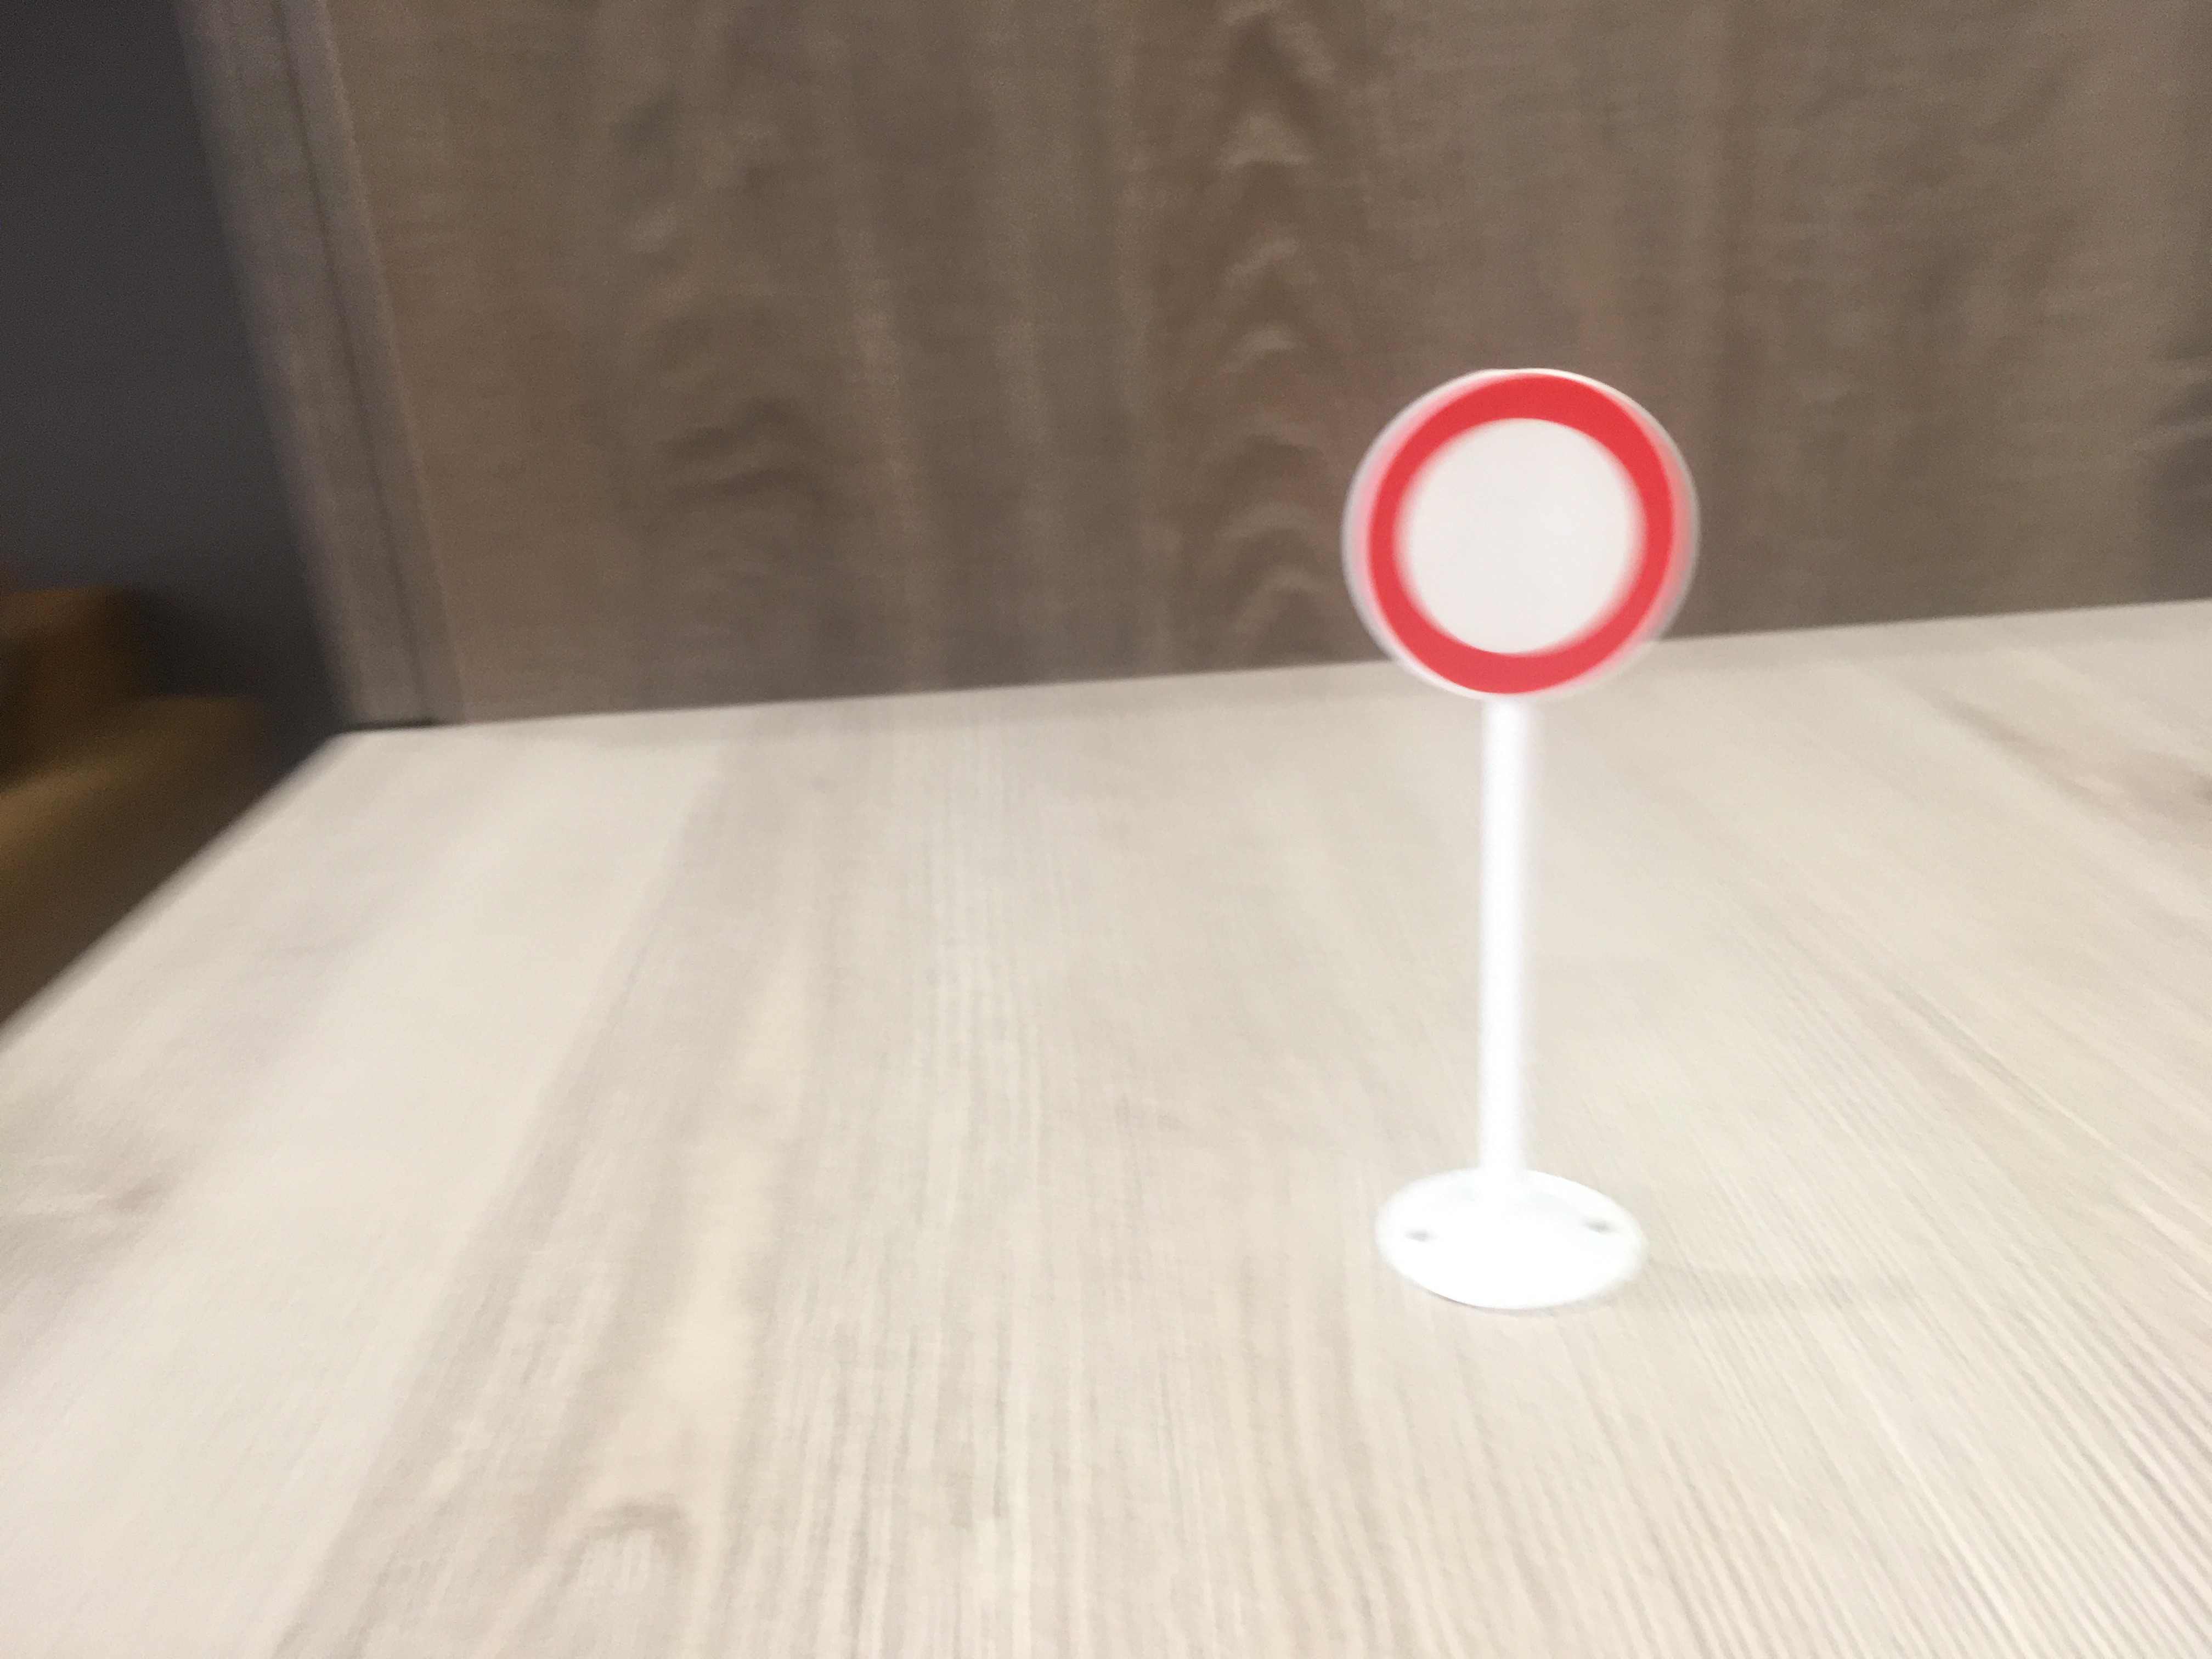noDrive: (1341, 369, 1691, 725)
